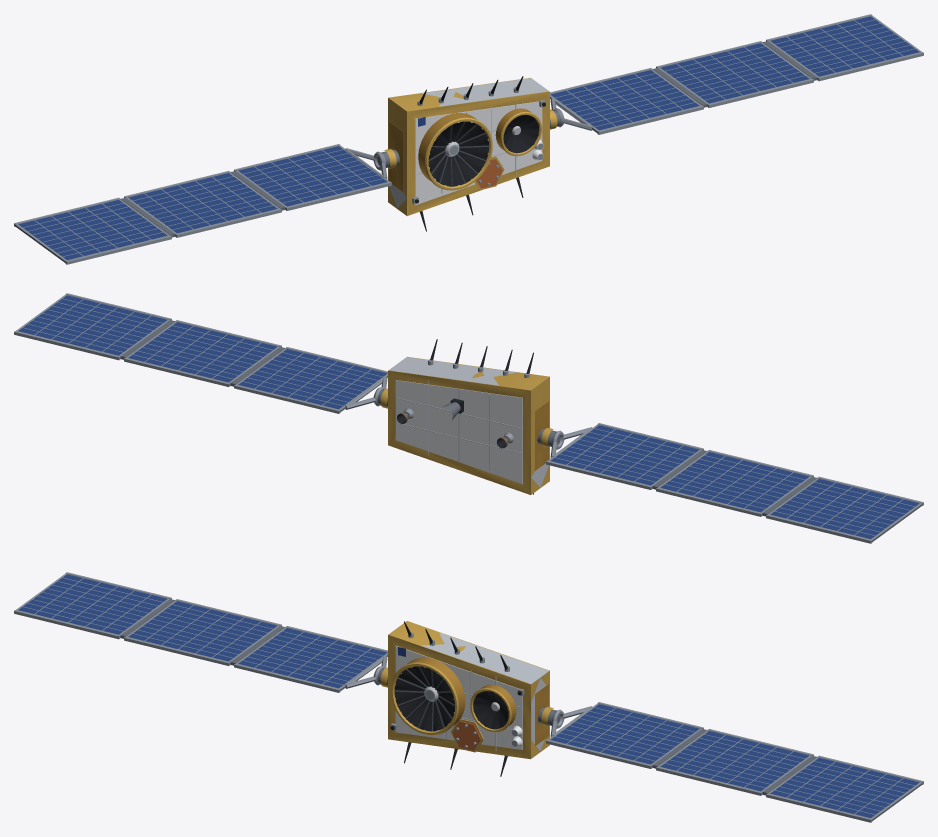
The model's file is globalstar-2.glb.
3 views of the same model, one above another, from view 1: azimuth 30°, elevation 25°; view 2: azimuth 150°, elevation 25°; view 3: azimuth 330°, elevation 25° (orthographic).
Visible parts, largest first — view 1: solar-panel, body, foil; view 2: solar-panel, body, foil; view 3: solar-panel, body, foil.
Part boxes in pixels (<box>): solar-panel: <box>18,16,919,259</box>; body: <box>14,14,923,264</box>; foil: <box>384,77,557,215</box>; solar-panel: <box>18,295,919,538</box>; body: <box>14,293,923,543</box>; foil: <box>380,356,553,494</box>; solar-panel: <box>18,574,919,817</box>; body: <box>14,572,923,822</box>; foil: <box>380,621,553,759</box>.
Bounding box in the file's own units: 12 × 1.9 × 1.28.
